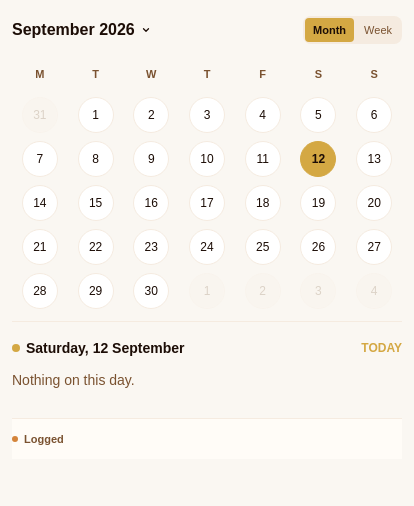
Test: CalendarPage › jumps to a month picked from the mobile month label
The image size is (414, 506).
Replace the text in the field named "Choose month" with "2026-11" at (81, 30), box [12,21,151,38]
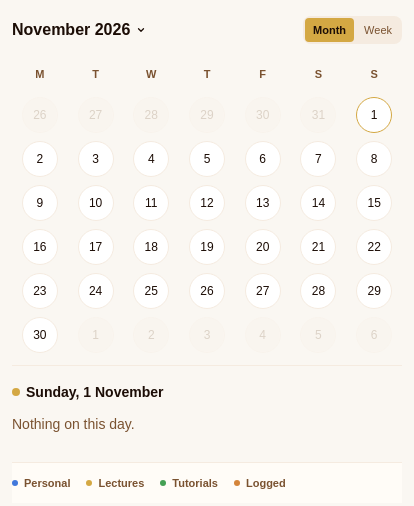
Now the heading "Sunday, 1 November" is shown, box [12,382,164,402]
